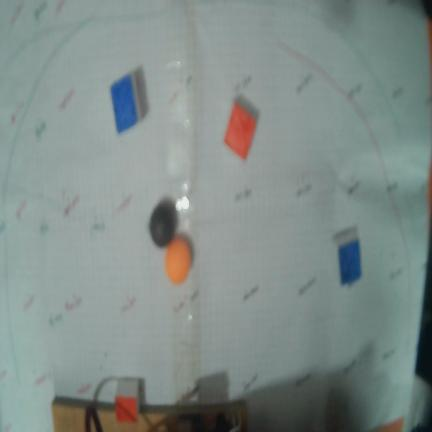circle_blue: (150, 202, 176, 247)
circle_orange: (165, 236, 191, 284)
rectangle_blue: (109, 76, 139, 132)
rectangle_orange: (116, 393, 137, 422)
square_blue: (339, 239, 361, 284)
square_orange: (224, 102, 256, 159)
